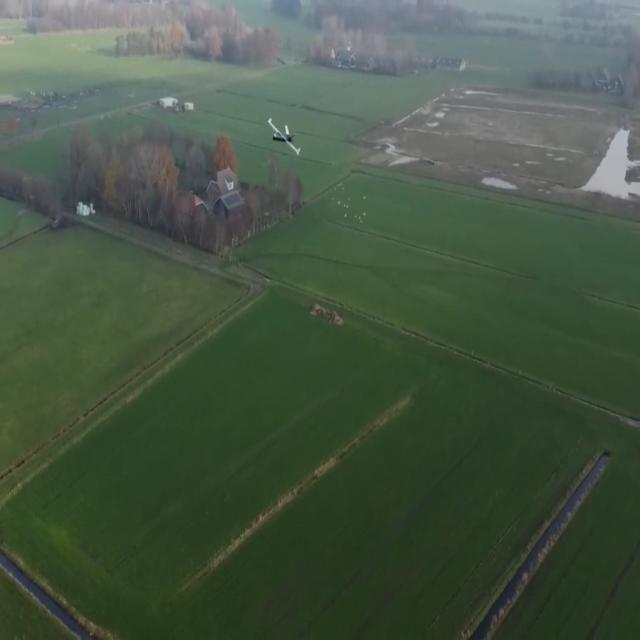iha: (268, 104, 305, 152)
